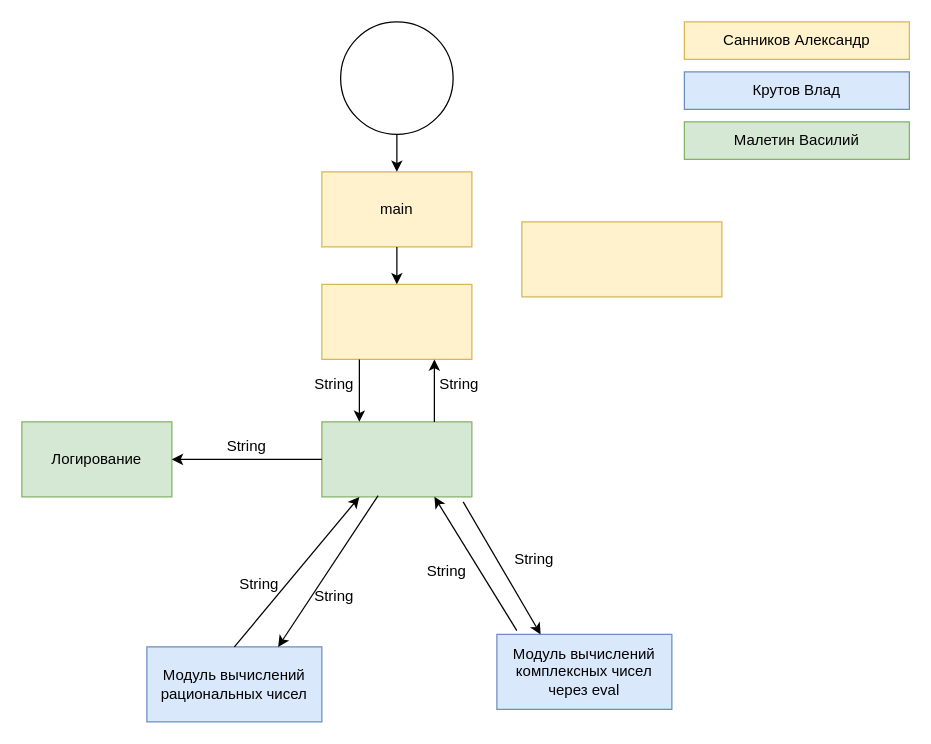
Some shapes in this 931 by 744 pixel diagram are drawn without their labels. The centre of each missing label's shape, as x and y in pixels:
Readme с описанием архитектуры и кто над каким модулем работал: the point at 621,259
Графический интерфейс: the point at 396,321
Контроллер: the point at 396,459
Пользователь: the point at 396,77
